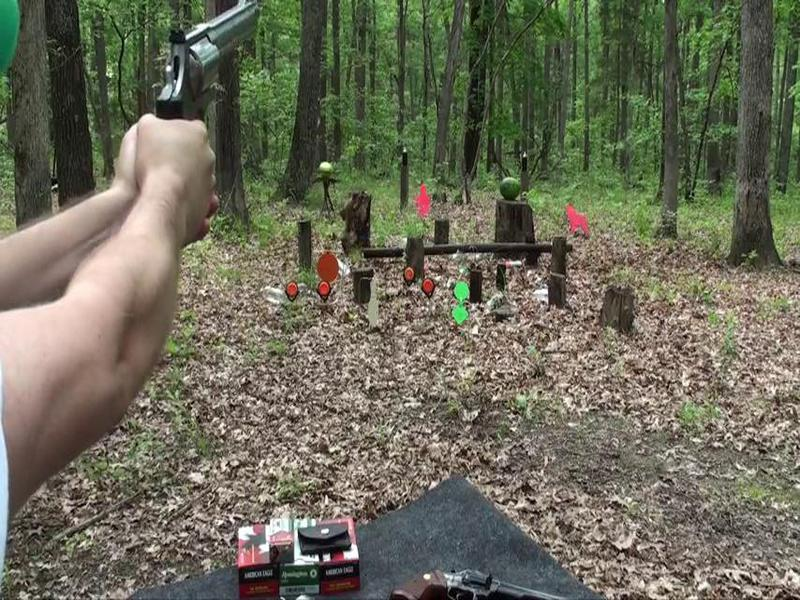Revolver: (140, 4, 270, 141)
